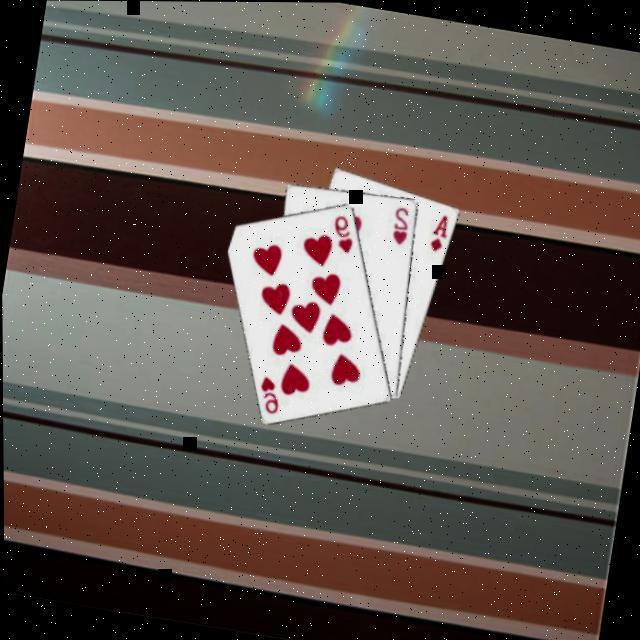2H: (390, 204, 416, 249)
9H: (329, 211, 361, 257), (254, 373, 286, 419)
AD: (428, 211, 454, 256)
